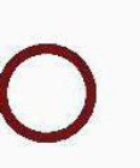RadioButton: (1, 1, 139, 167)
